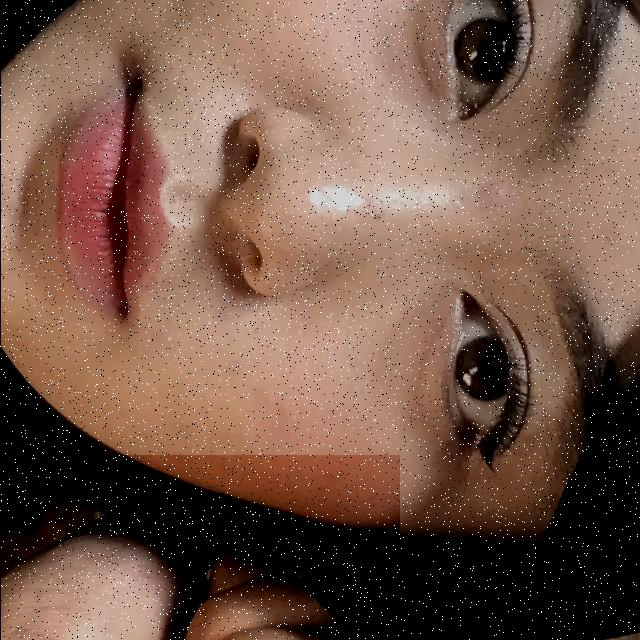ibu: (0, 455, 399, 640)
